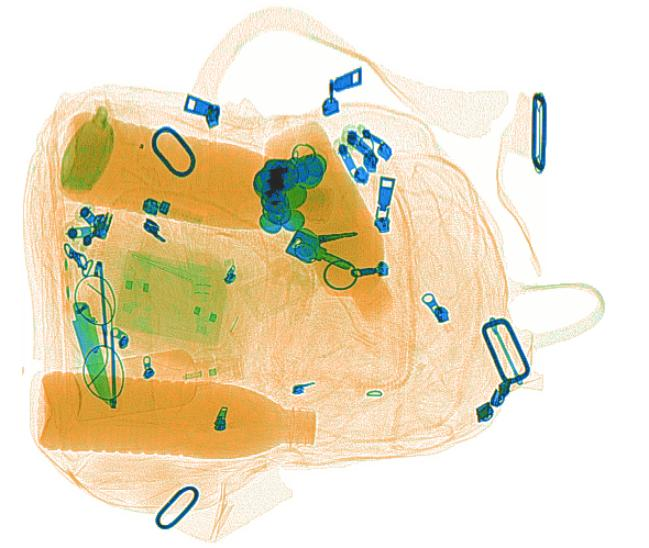knife: (69, 299, 113, 405)
plasticBottleWithaNozzle: (72, 346, 248, 418)
